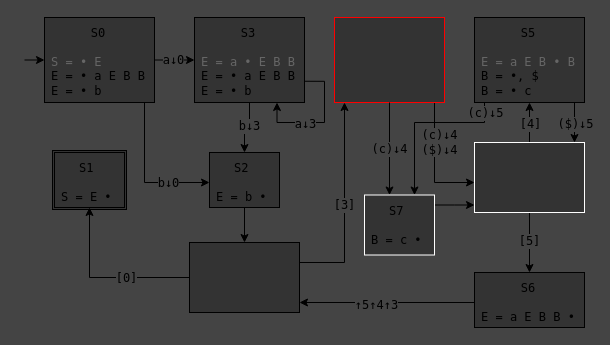
This 610x345 diagram has some shape labels left out. The shapes that lost their labels are listed below. From the top down, each one's centre as x and y in pixels, then its label:
point 389,59: S4 E = a E • B B B = •, c$ B = • c
point 529,177: BGoto E = a E • B B E = a E B • B
point 244,277: EGoto S = • E E = a • E B B
